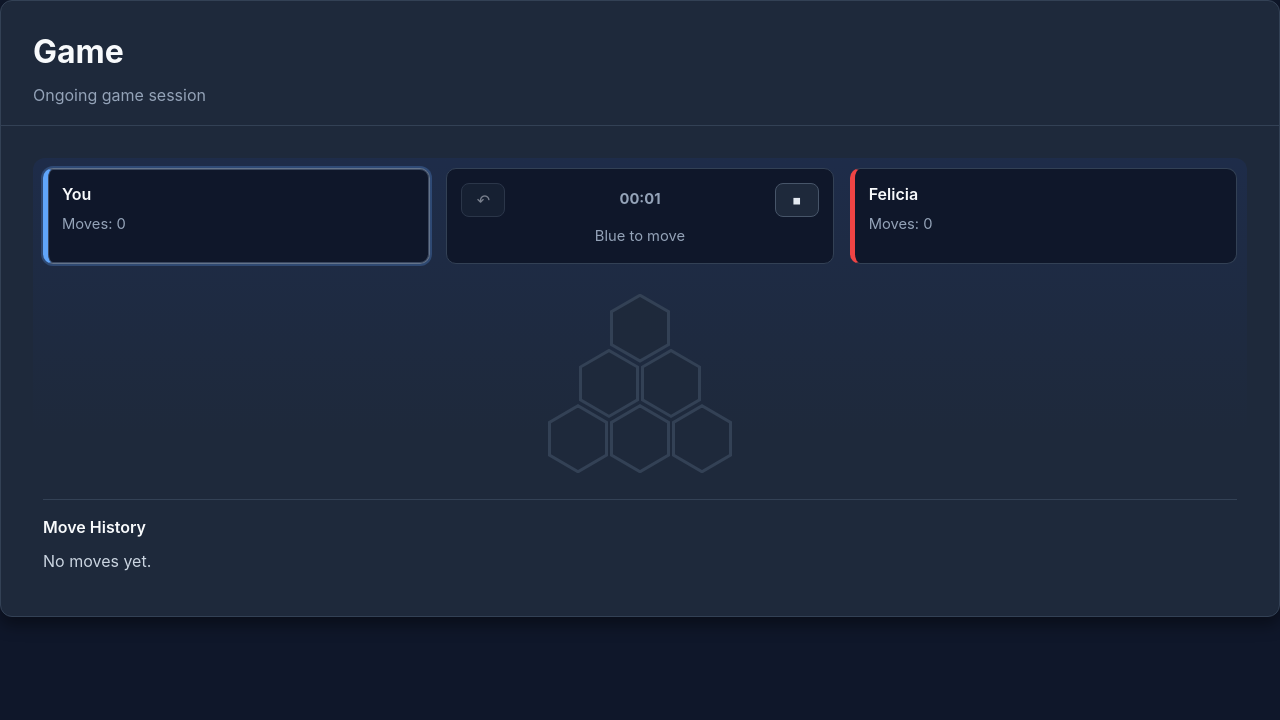
GamePage — finish › finish button sends SURRENDERED result and shows surrendered status in UI
Expected: the element named "game board" is shown, x1=536 y1=282 x2=744 y2=471
What coordinates should you click on to do the following:
click the button named "surrender"
I would click on:
 (797, 200)
Its box is x1=775 y1=183 x2=819 y2=217.
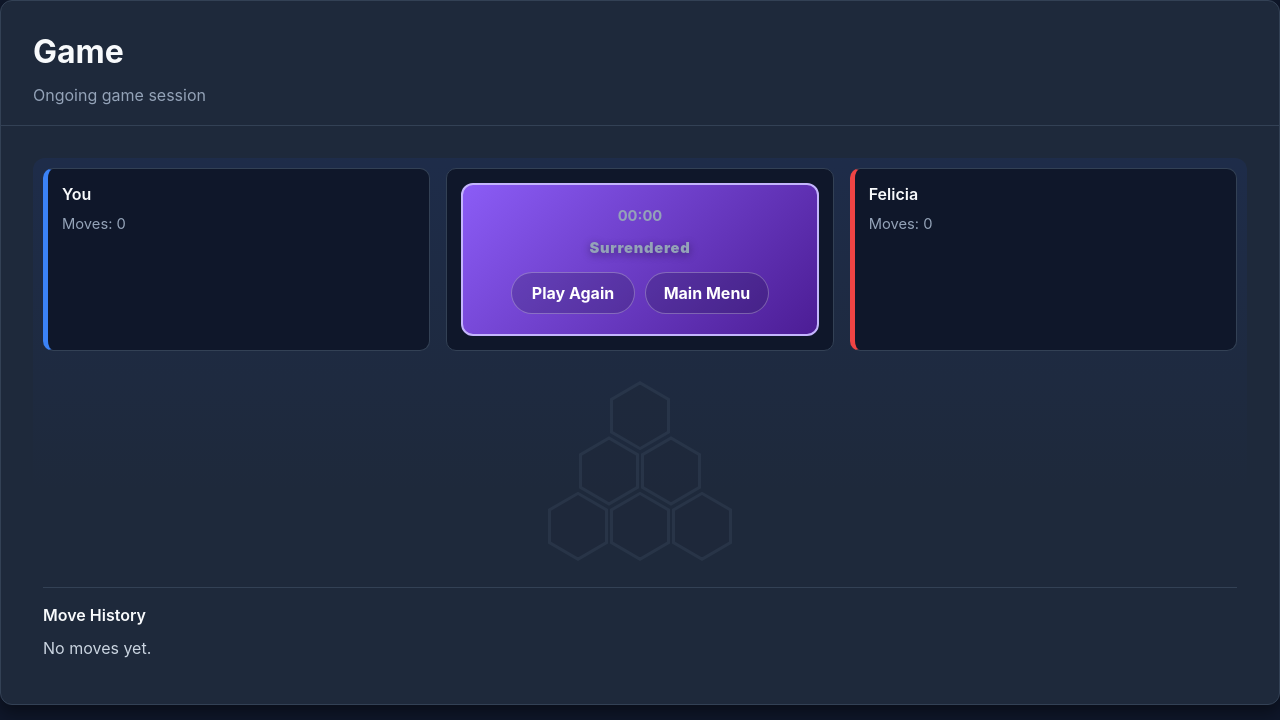
Expected: the text "Surrendered" is shown, x1=590 y1=236 x2=690 y2=260
